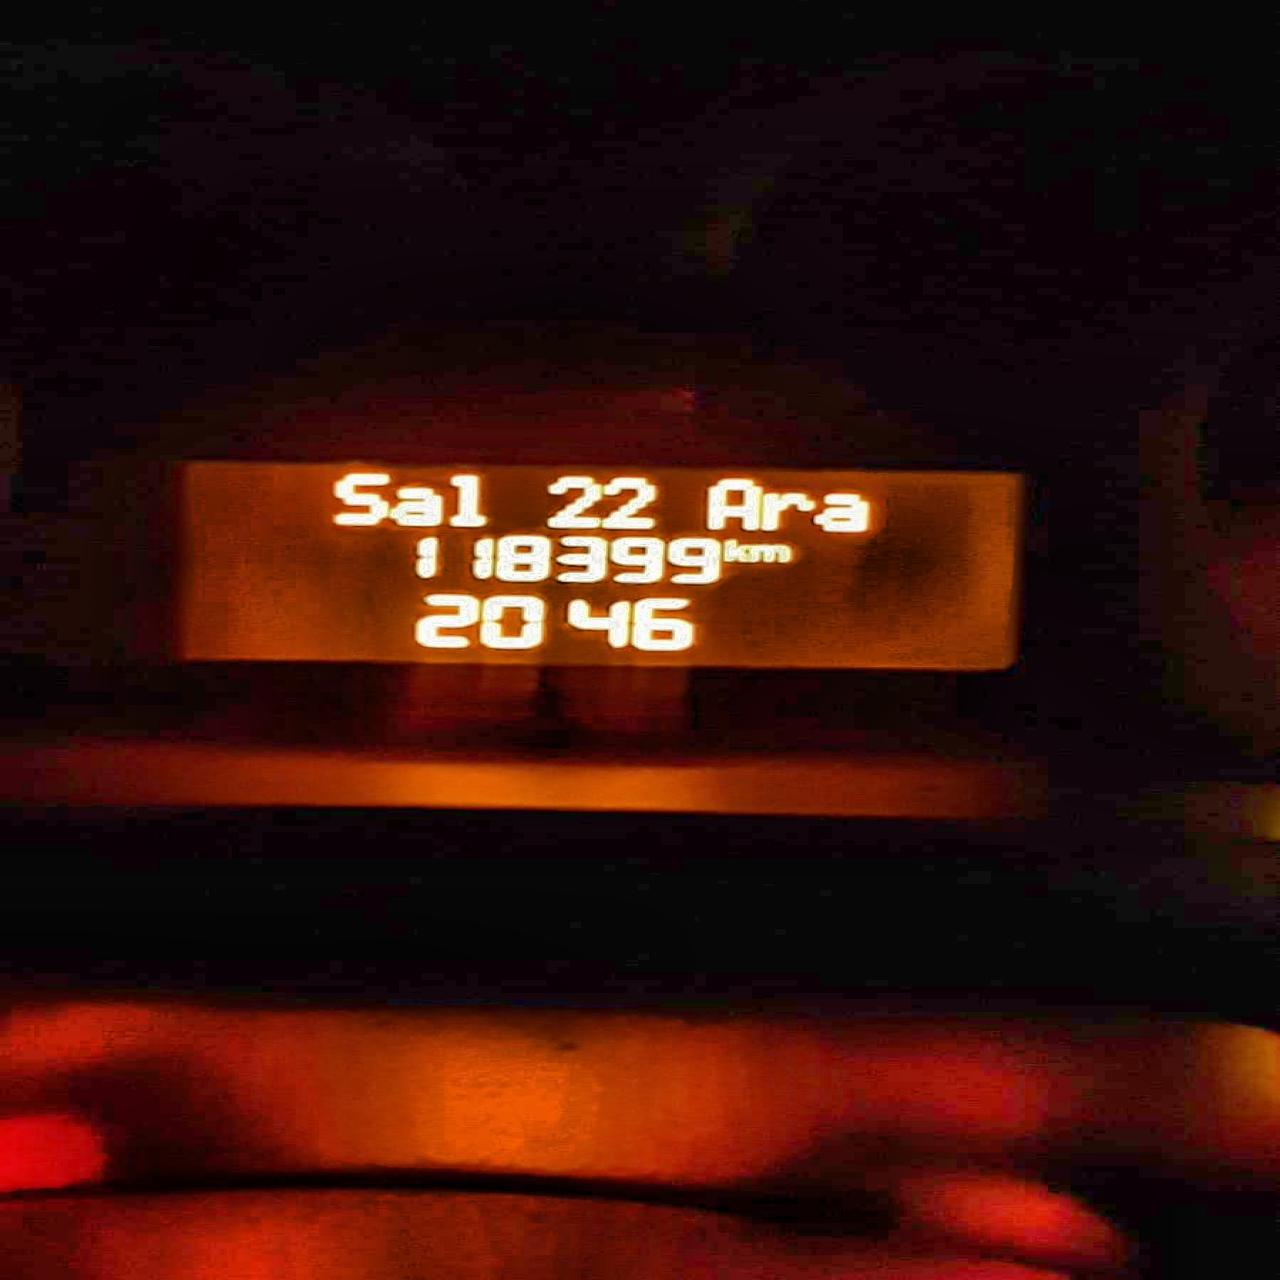0: (478, 592, 544, 651)
1: (404, 533, 442, 584), (469, 530, 492, 584)
2: (411, 590, 478, 655), (543, 474, 601, 531), (606, 474, 663, 529)
3: (558, 535, 605, 583)
4: (564, 595, 631, 651)
6: (635, 594, 693, 652)
8: (497, 531, 554, 584)
9: (611, 532, 663, 585), (668, 535, 720, 586)
X: (326, 470, 389, 529), (702, 474, 760, 531), (816, 491, 873, 533), (450, 471, 492, 529), (392, 483, 444, 526), (763, 493, 812, 531), (751, 542, 795, 563), (722, 536, 750, 563)
odometer: (166, 448, 1043, 682)
